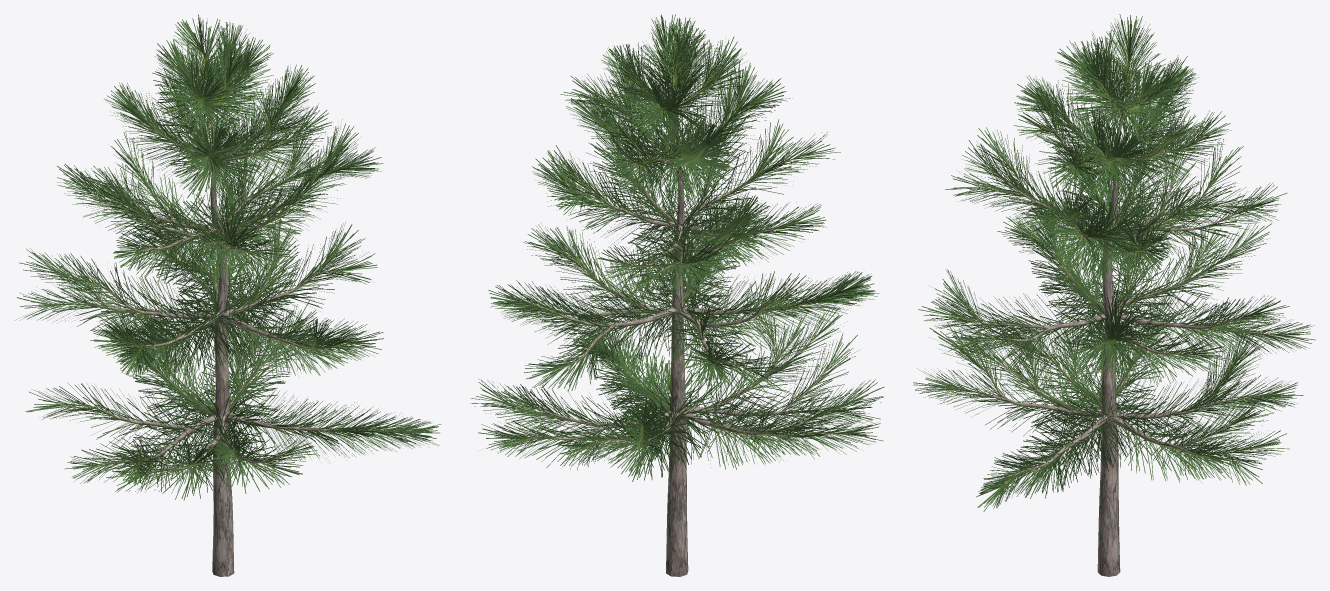
File: Pine.fbx
3 views of the same model, side by side, from view 1: azimuth 30°, elevation 25°; view 2: azimuth 150°, elevation 25°; view 3: azimuth 270°, elevation 25° (orthographic). The views are drawn at different scales.
Parts seen in each view (by area): view 1: leaves, tree; view 2: leaves, tree; view 3: leaves, tree.
Boxes of the visible parts, bbox=[...] form: leaves: bbox=[15, 14, 441, 500]; tree: bbox=[48, 58, 381, 576]; leaves: bbox=[470, 14, 884, 481]; tree: bbox=[514, 64, 848, 576]; leaves: bbox=[913, 14, 1315, 511]; tree: bbox=[955, 64, 1268, 576].
Size of the model in its own units: 1129 by 1774 by 1177.
